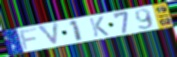1: (69, 19, 86, 42)
7: (112, 11, 131, 35)
9: (135, 8, 155, 30)
F: (18, 27, 39, 51)
K: (88, 15, 111, 38)
V: (36, 21, 61, 48)
